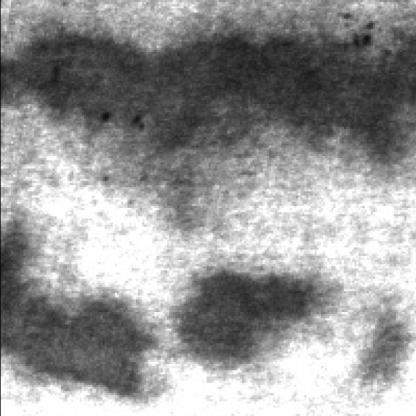patches: (12, 29, 416, 158), (6, 244, 164, 400), (171, 277, 335, 374), (360, 316, 416, 400)
